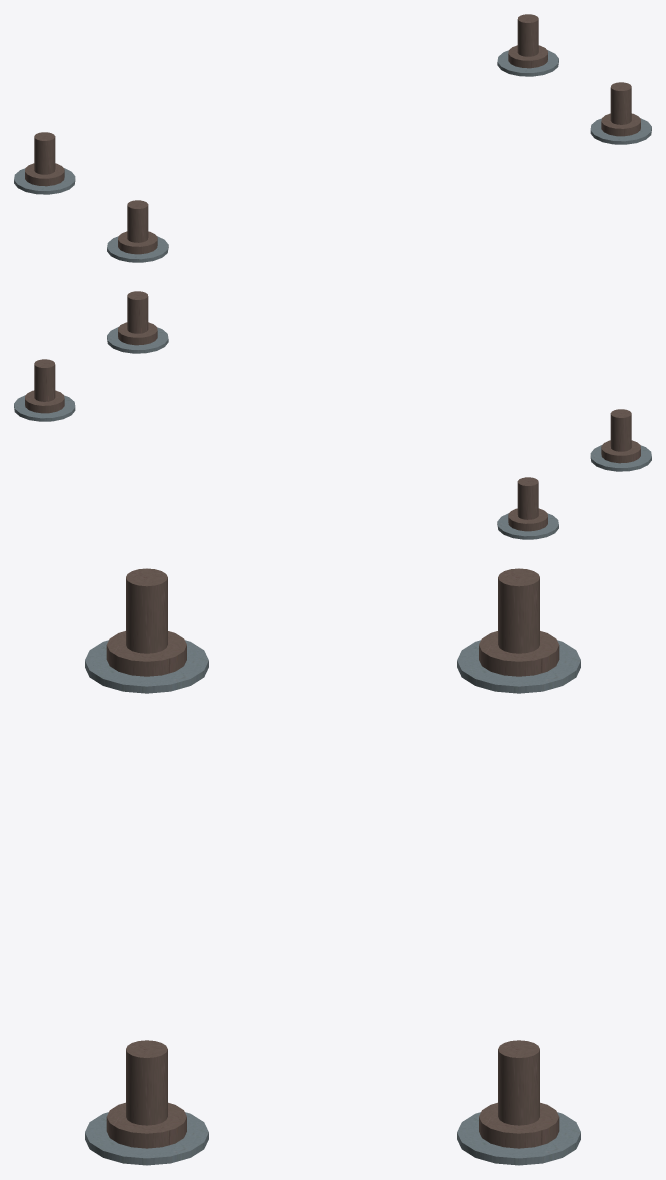
The model's file is Switcher_Bolts.FBX.
3 renders of one model, top to bottom at view 1: azimuth 30°, elevation 25°; view 2: azimuth 150°, elevation 25°; view 3: azimuth 270°, elevation 25°, orthographic. The views are drawn at different scales.
Visible parts, largest first — view 1: Switcher_Bolts; view 2: Switcher_Bolts; view 3: Switcher_Bolts.
Boxes of the visible parts, <box> form: Switcher_Bolts: <box>14,14,651,262</box>; Switcher_Bolts: <box>14,291,651,539</box>; Switcher_Bolts: <box>85,568,580,1165</box>.
Size of the model in its own units: 38.29 by 15.32 by 3.07.
